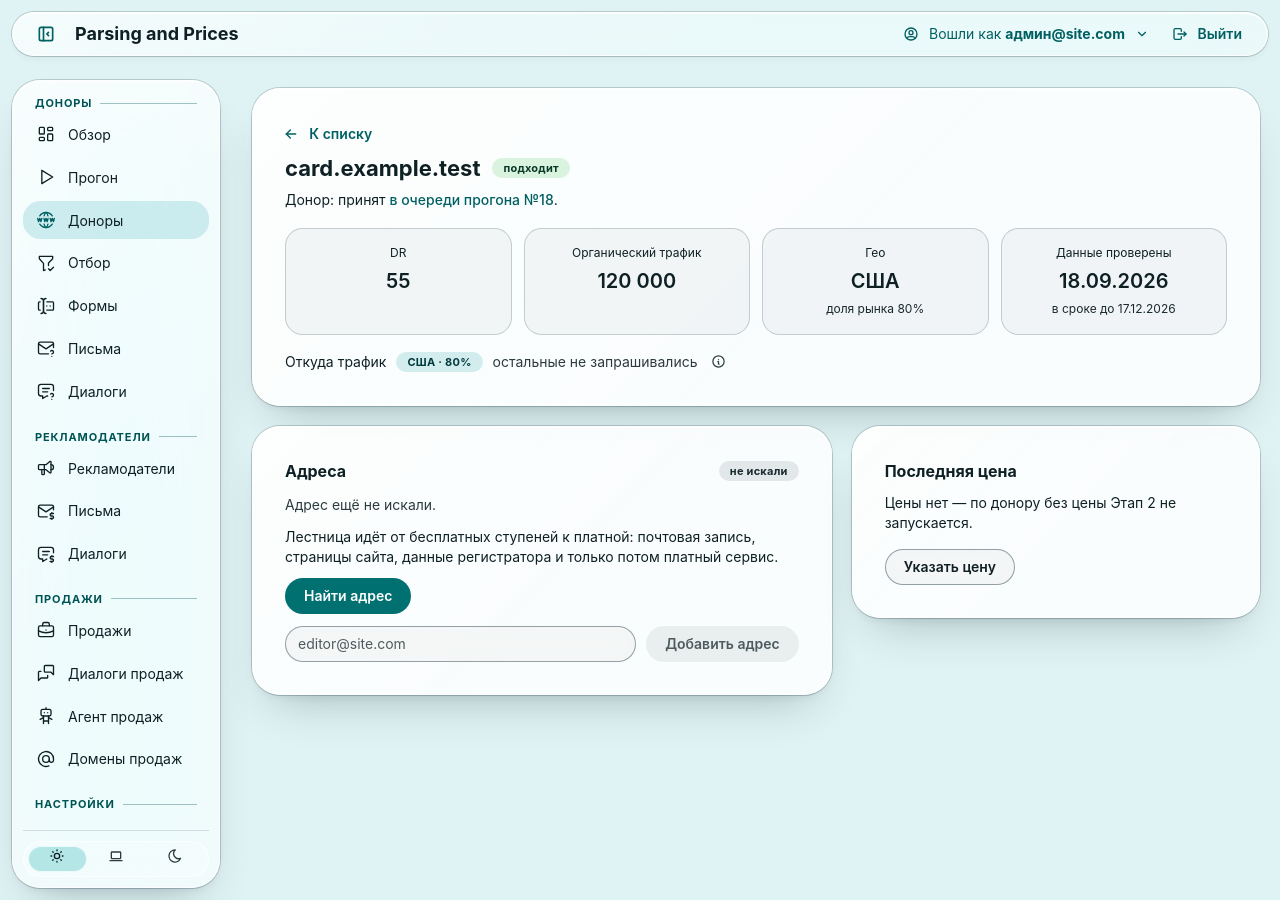
Test case: карточка донора: откуда трафик › неполная разбивка — страна, пометка и почему в «i»
Check: the heading "card.example.test" is shown, box top-left (285, 153), bottom-right (480, 184)
Check: the text "Откуда трафик" is shown, box top-left (285, 352), bottom-right (386, 372)
Hover over the button named "Как проверяется страна" at (718, 362), box top-left (708, 351), bottom-right (730, 373)
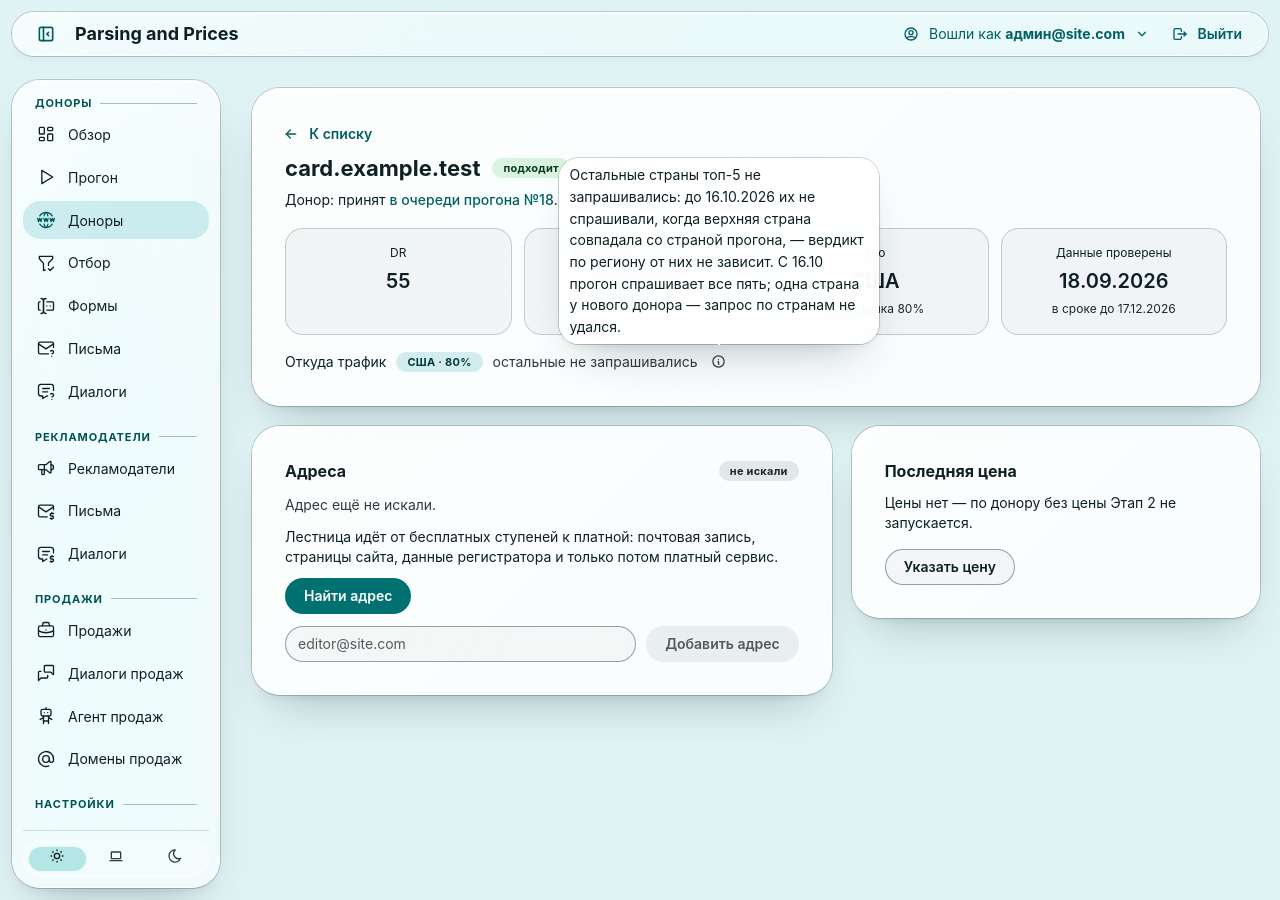
Check: the tooltip "Остальные страны топ-5 не запрашивались: до 16.10.2026 их не спрашивали, когда верхняя страна совпадала со страной про" is shown, box top-left (570, 166), bottom-right (864, 335)
